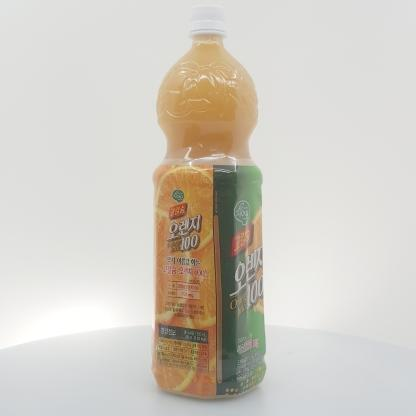--------1-5L: (151, 5, 266, 399)
